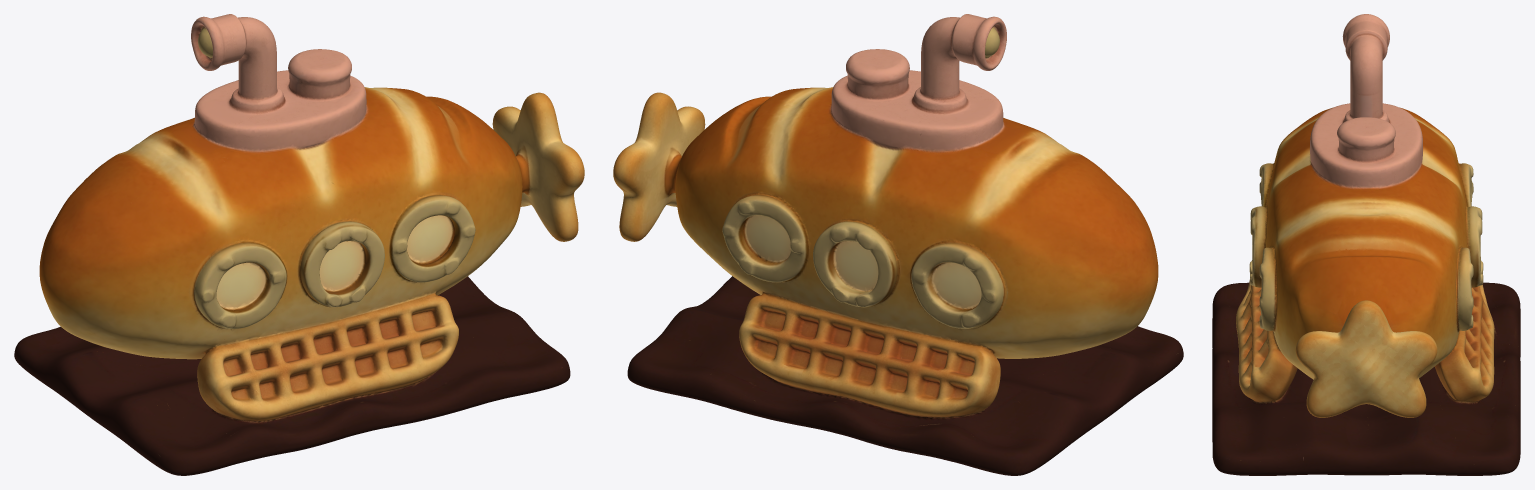
The model's file is vehicle-waffle-submarine.glb.
3 renders of one model, left to right at view 1: azimuth 30°, elevation 25°; view 2: azimuth 150°, elevation 25°; view 3: azimuth 270°, elevation 25°, orthographic. The views are drawn at different scales.
Size of the model in its own units: 1.9 by 1.34 by 1.1.
1 material, 1 textured.
